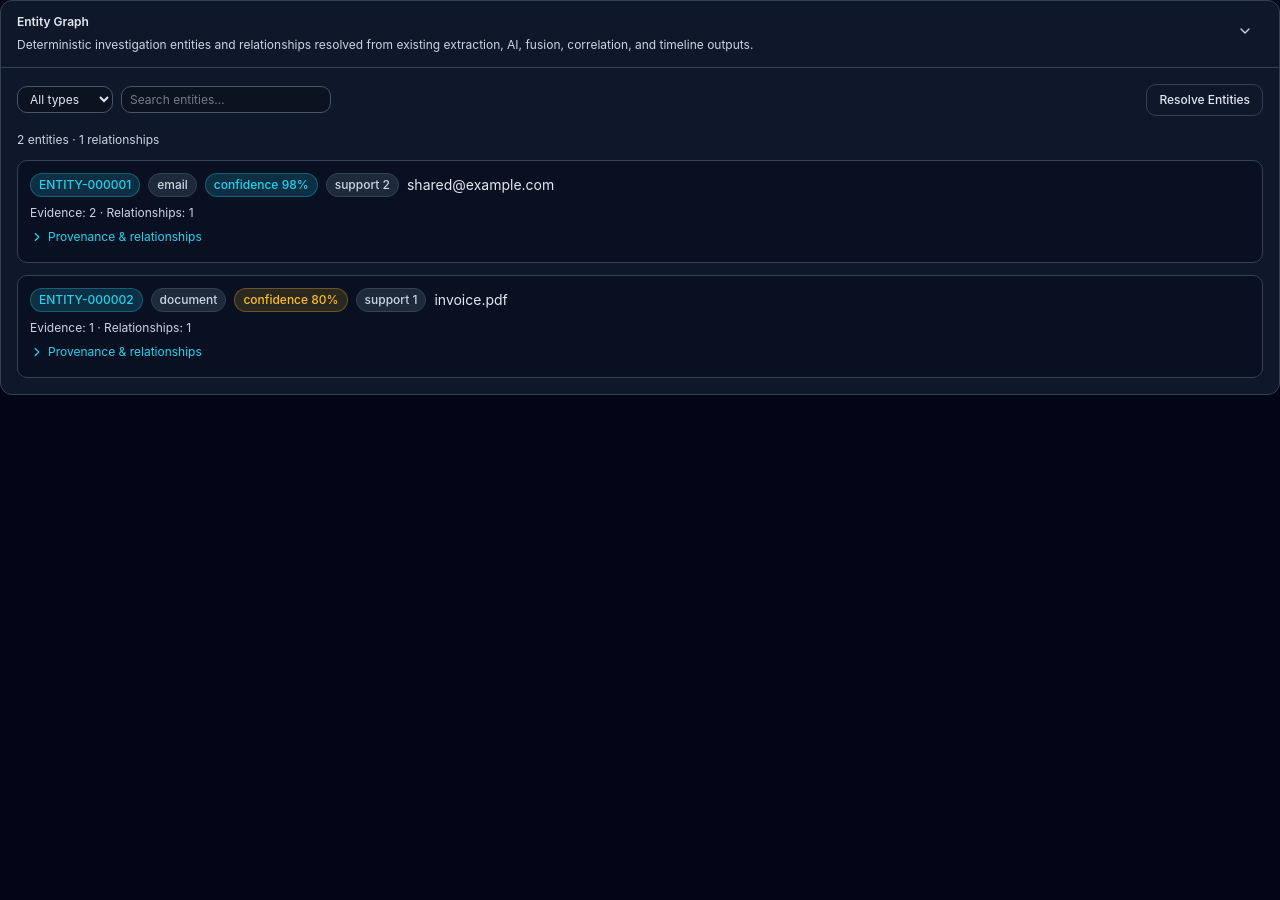
Phase 7C EntityGraphPanel › expands provenance and relationships
Expected: the text "ENTITY-000001" is shown, [30,172,140,196]
Click the button "Provenance & relationships" below "shared@example.com".
click(116, 236)  # box [30,228,202,244]
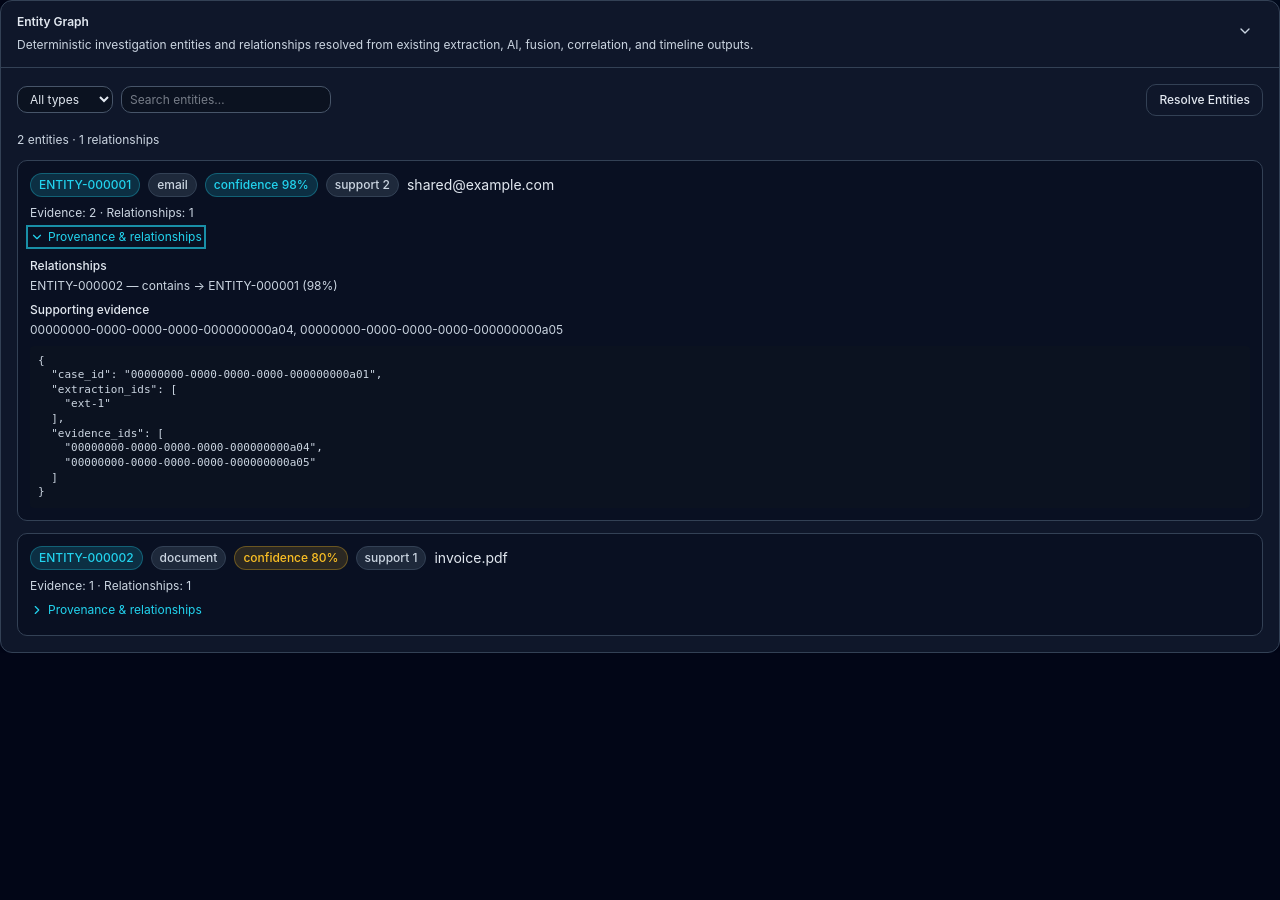
Result: the text "Relationships" is shown at [30,258,107,272]
Result: the text "extraction_ids" is shown at [38,354,382,498]
